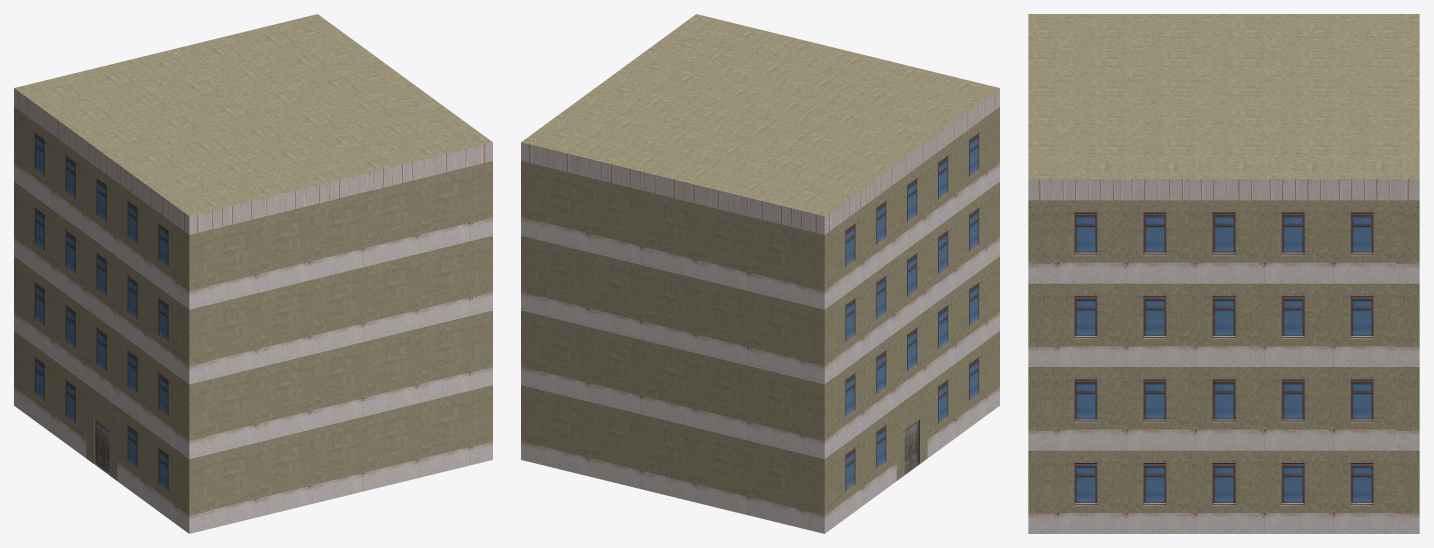
Rendered from flat_square_concrete_alt.glb.
3 views of the same model, side by side, from view 1: azimuth 30°, elevation 25°; view 2: azimuth 150°, elevation 25°; view 3: azimuth 270°, elevation 25° (orthographic). The views are drawn at different scales.
Parts seen in each view (by area): view 1: flat_square_concrete_alt; view 2: flat_square_concrete_alt; view 3: flat_square_concrete_alt.
Boxes of the visible parts, bbox=[...] form: flat_square_concrete_alt: bbox=[14, 14, 492, 533]; flat_square_concrete_alt: bbox=[521, 14, 999, 533]; flat_square_concrete_alt: bbox=[1028, 14, 1419, 533].
Size of the model in its own units: 17 by 17 by 17.
Materials: 1 (1 with a texture image).
